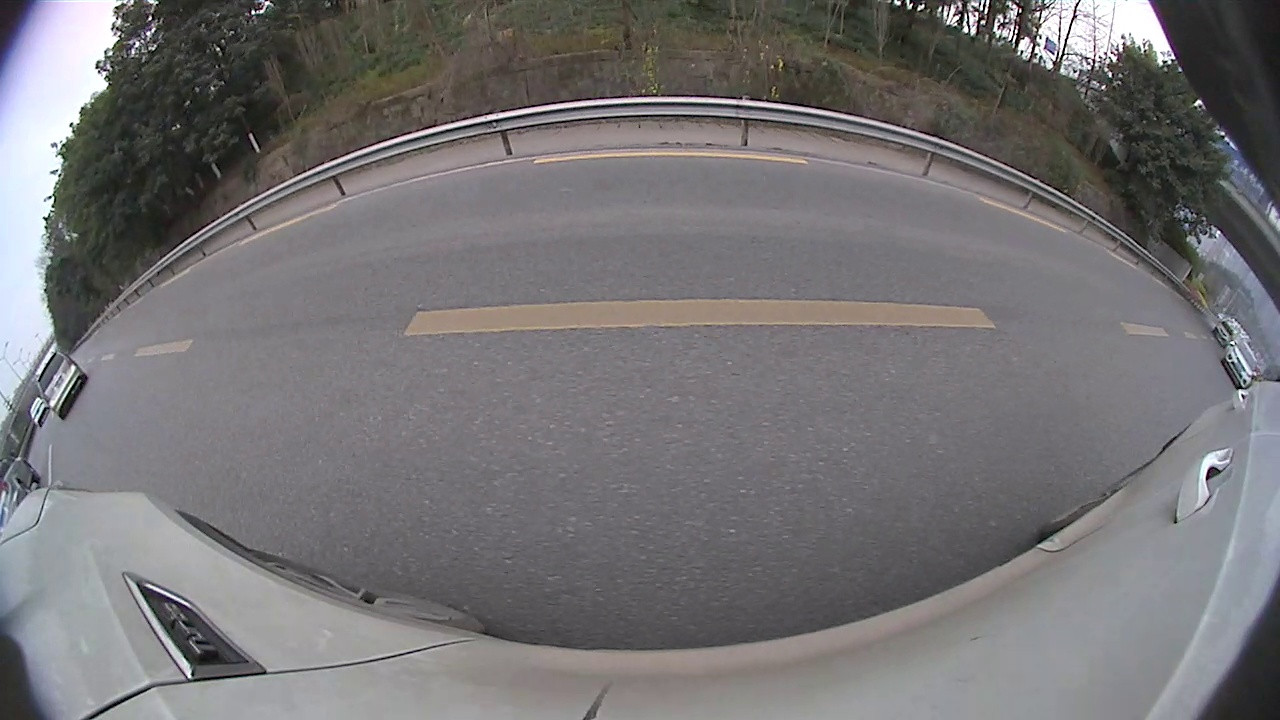bus: (822, 99, 1222, 331), (731, 134, 833, 194)
car: (1, 179, 390, 521), (841, 123, 1173, 327), (605, 132, 727, 226), (513, 146, 588, 204), (724, 158, 751, 187)
front: (321, 239, 375, 299), (843, 199, 876, 239)
rear: (31, 424, 116, 519), (978, 248, 1054, 319), (564, 175, 577, 198)
